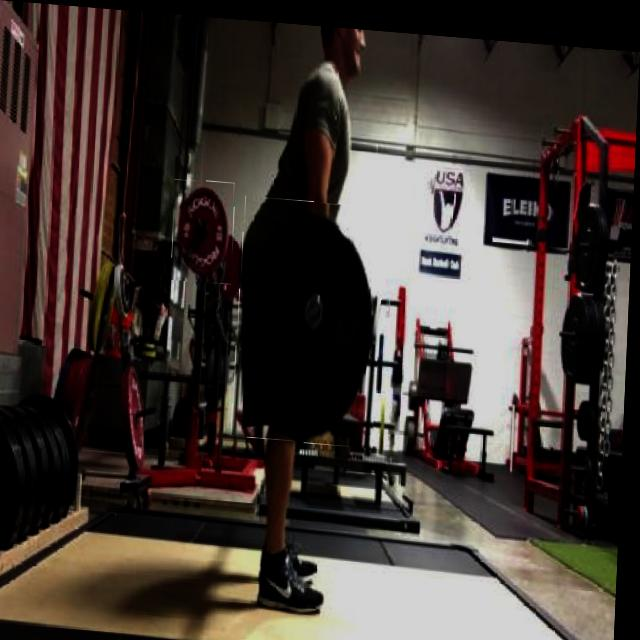barbell: (236, 193, 388, 443), (174, 176, 238, 282)
